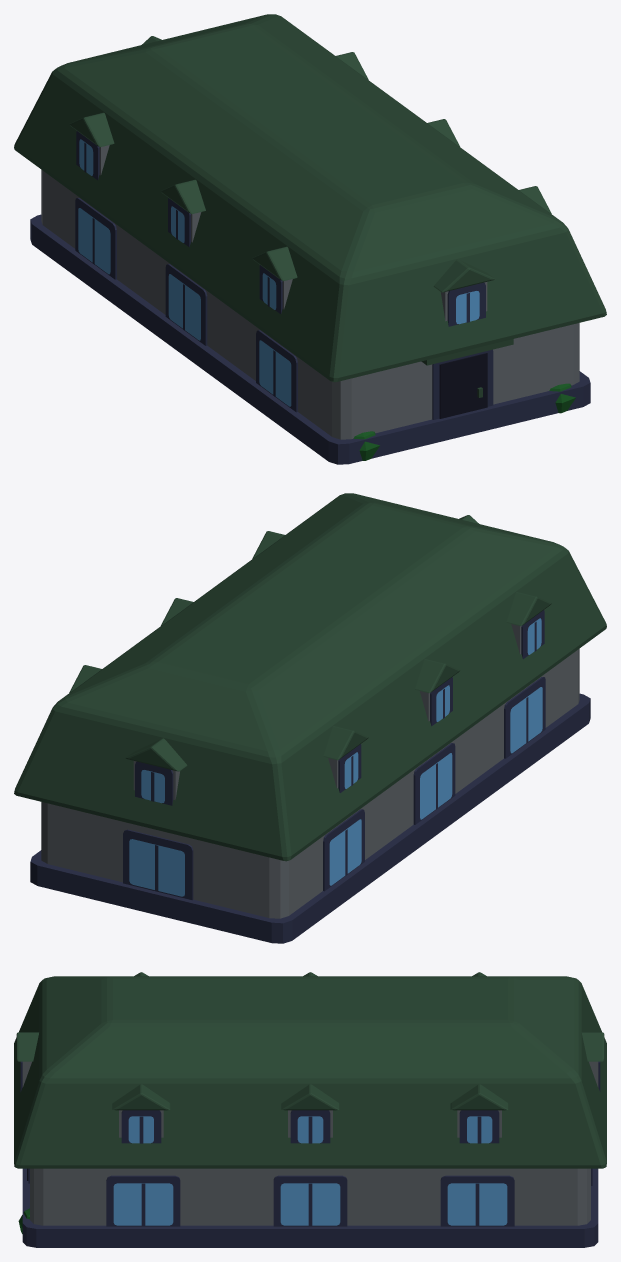
The model's file is house-1x2-1f-mansard-d.glb.
3 renders of one model, top to bottom at view 1: azimuth 30°, elevation 25°; view 2: azimuth 150°, elevation 25°; view 3: azimuth 270°, elevation 25°, orthographic. The views are drawn at different scales.
Parts seen in each view (by area): view 1: house-1x2-1f-mansard-d; view 2: house-1x2-1f-mansard-d; view 3: house-1x2-1f-mansard-d.
Boxes of the visible parts, x1,y1,x2,y2 form: house-1x2-1f-mansard-d: (14,14,606,464); house-1x2-1f-mansard-d: (14,493,606,943); house-1x2-1f-mansard-d: (14,972,606,1247).
Bounding box in the file's own units: 0.9876 × 0.7026 × 1.99.
Materials: 1 (1 with a texture image).
